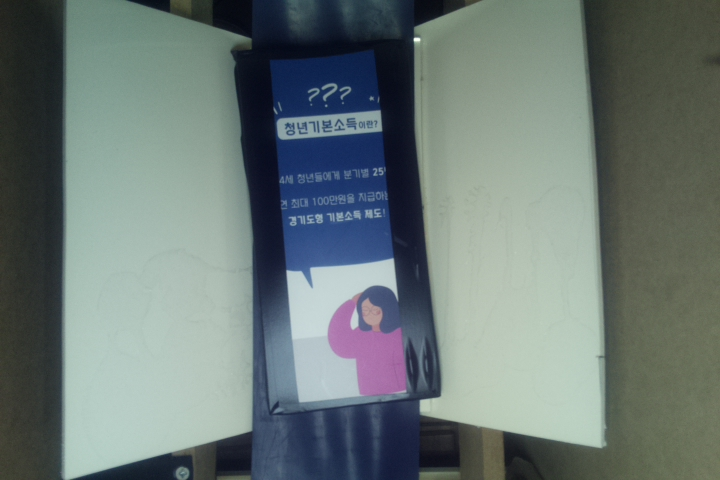book: (233, 35, 439, 414)
